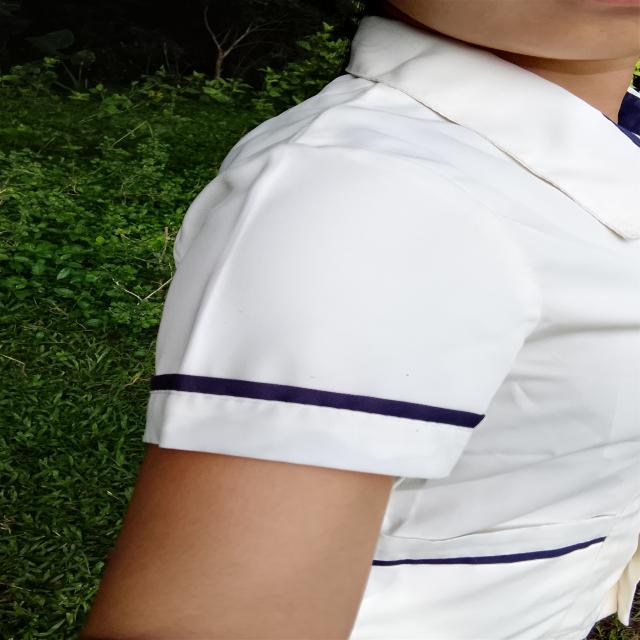education_female_uniform: (76, 20, 640, 640)
